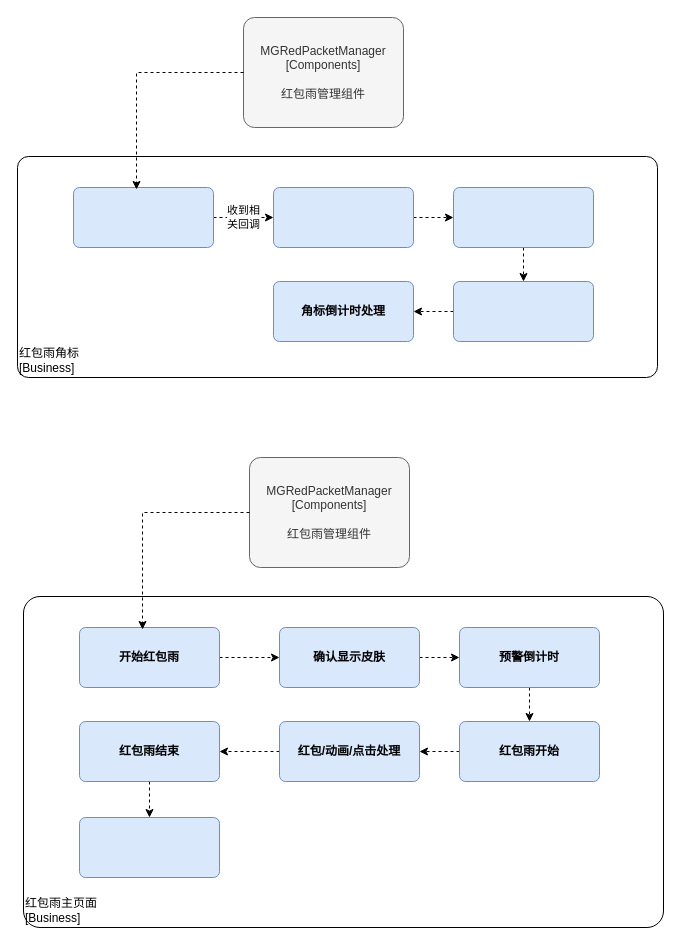
Image size: 681x945. Some labels were removed from this diagram. Each missing label, with the centre of its shape:
"判断收到数据 是否有效" belongs at (343,217).
"判断是否显示角标" belongs at (523,217).
"注册长链接/广告回调" belongs at (143,217).
"结果展示" belongs at (149,847).
"角标位置处理" belongs at (523,311).
